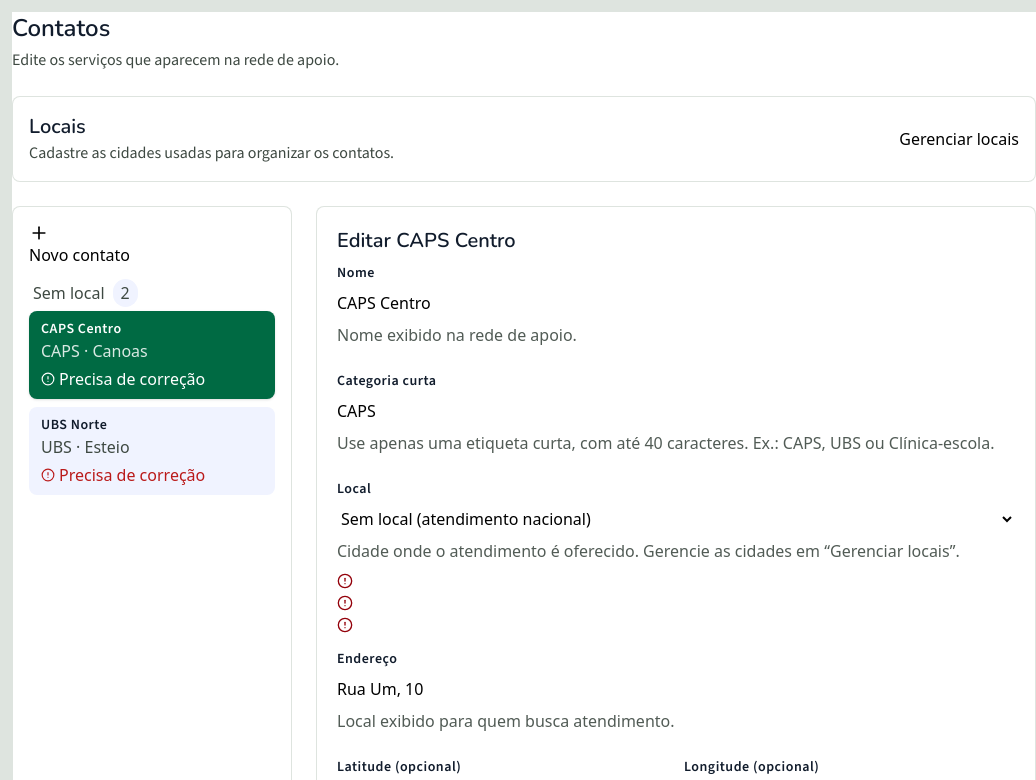
ContactsDashboard › selects the first contact by default and switches the focused editor from the accessible list
The width and height of the screenshot is (1036, 780).
Check: the heading "Contatos" is shown, box [12,12,110,44]
Check: the text "Edite os serviços que aparecem na rede de apoio." is shown, box [12,49,339,70]
Click the button "UBS Norte UBS · Esteio Precisa de correção" at (152, 451), box [29,407,275,495]
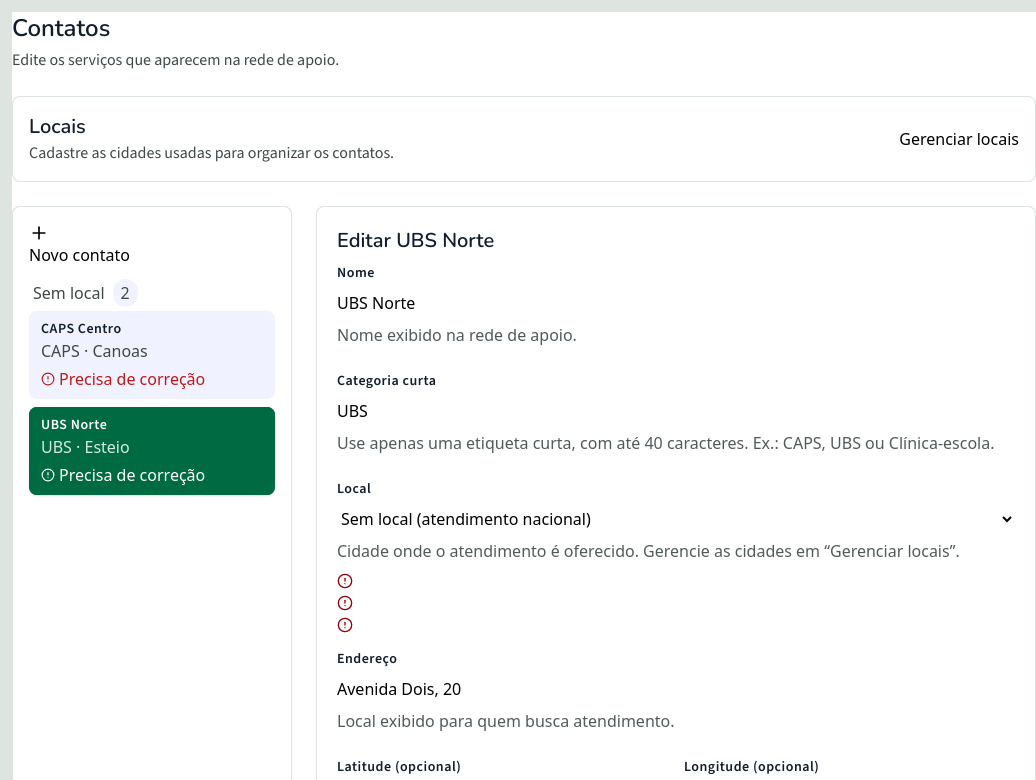
Check: the field labelled "Nome" holds "UBS Norte", box [337,291,1015,315]
Check: the heading "Editar UBS Norte" is shown, box [337,227,494,255]
